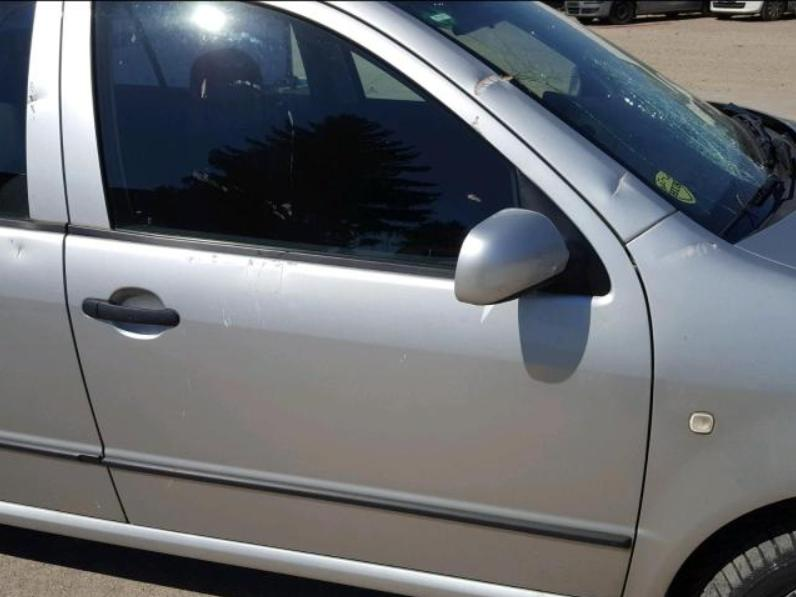Back-door: (0, 0, 129, 523)
Back-window: (0, 0, 36, 220)
Fender: (623, 211, 796, 596)
Front-door: (59, 1, 654, 597)
Front-wheel: (699, 530, 796, 597)
Front-window: (92, 0, 519, 271)
Hood: (735, 210, 796, 266)
Mirror: (455, 208, 570, 305)
Rocker-panel: (1, 501, 572, 597)
Windshield: (390, 1, 796, 245)
